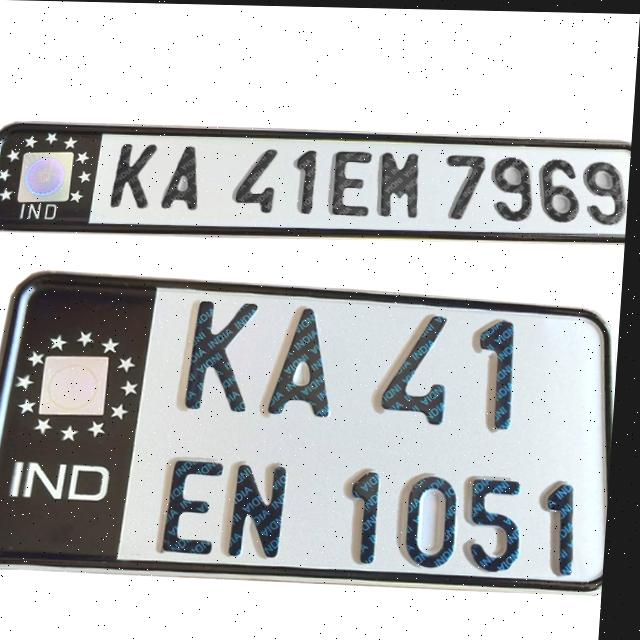plate: (0, 259, 626, 598), (0, 111, 634, 251)
